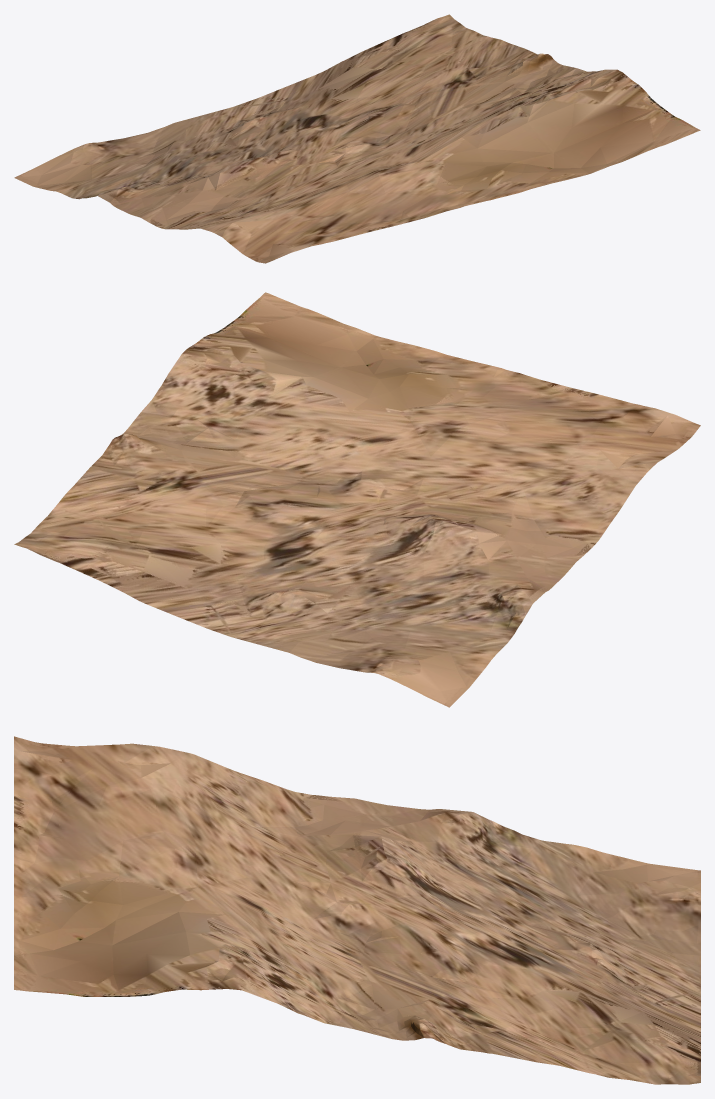
The picture shows the model from 3 angles, top to bottom: view 1: azimuth 30°, elevation 25°; view 2: azimuth 150°, elevation 25°; view 3: azimuth 270°, elevation 25°; orthographic projection. The views are drawn at different scales.
Bounding box in the file's own units: 4.18 × 1.15 × 4.18.
Materials: 2 (2 with a texture image).
